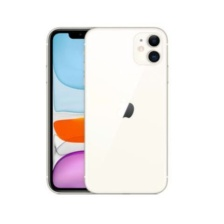phone: (43, 23, 135, 197), (82, 24, 170, 194)
